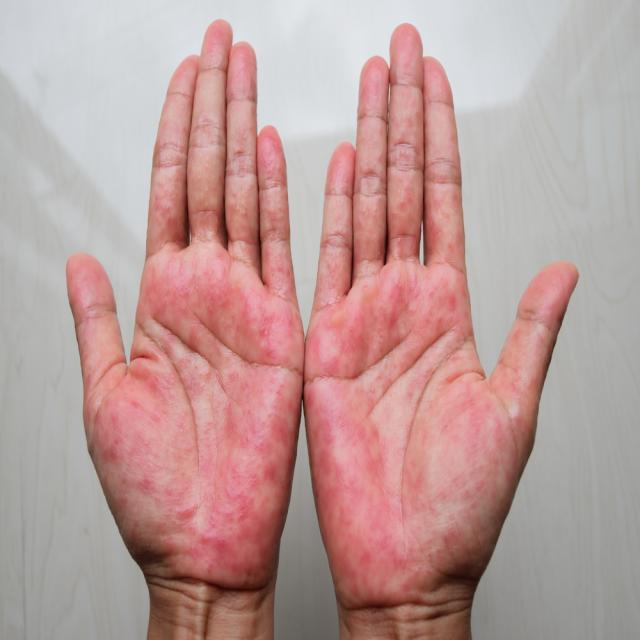eczema: (154, 253, 262, 542), (342, 275, 458, 538), (160, 93, 286, 293), (354, 78, 438, 264)
